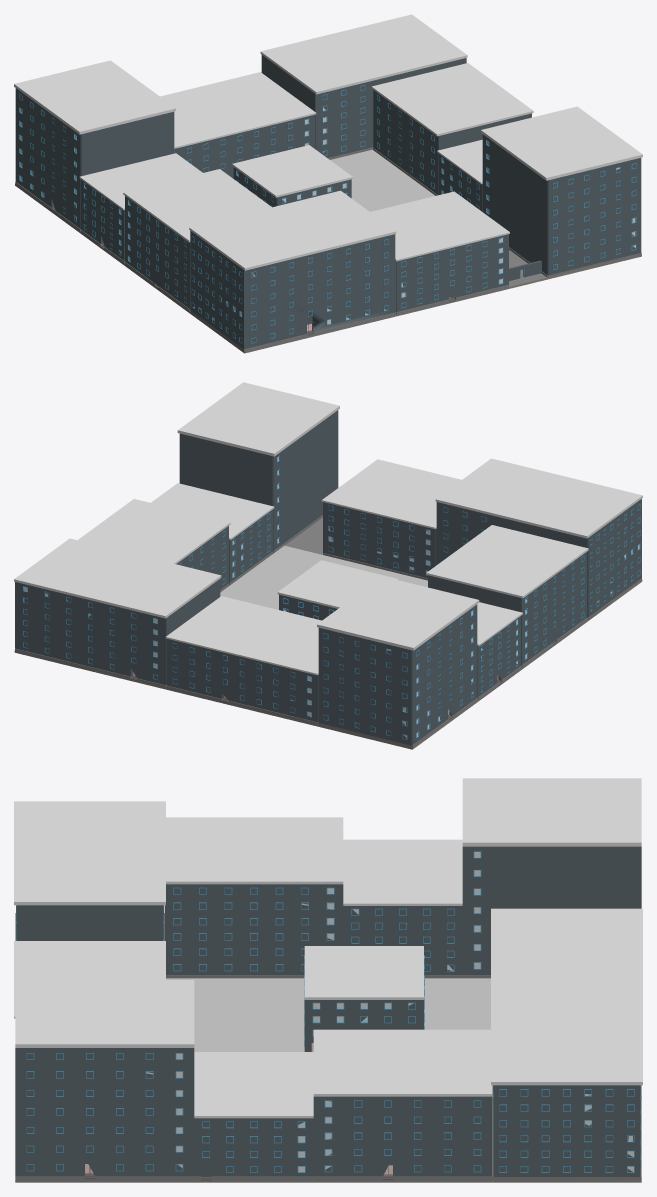
The model's file is Block04.fbx.
3 views of the same model, one above another, from view 1: azimuth 30°, elevation 25°; view 2: azimuth 150°, elevation 25°; view 3: azimuth 270°, elevation 25° (orthographic). The views are drawn at different scales.
Visible parts, largest first — view 1: BC40_F06.003, BC30_F07.003, BC30_F07.005, BC40_F06.004, BR30_F05.001, BR30_F05.008, BR40_F04.005, BR30_F06.007, BR20_F05.007, BR20_F06.006, Courtyard.003, BR20_F04.006 (+2 smaller); view 2: BC30_F07.005, BC40_F06.004, BC30_F07.003, BC40_F06.003, BR40_F04.005, BR30_F06.007, BR30_F05.001, BR30_F05.008, BR20_F04.006, Courtyard.003, BR20_F06.006, BR20_F05.007 (+2 smaller); view 3: BC30_F07.003, BC40_F06.004, BR30_F06.007, BR30_F05.008, BC30_F07.005, BC40_F06.003, BR20_F04.006, BR20_F05.007, Courtyard.003, BR40_F04.005, BR20_F06.006, BR30_F05.001 (+1 smaller).
Boxes of the visible parts, x1,y1,x2,y2 form: BC40_F06.003: (189, 190, 396, 353); BC30_F07.003: (481, 106, 642, 277); BC30_F07.005: (14, 60, 175, 231); BC40_F06.004: (260, 14, 467, 159); BR30_F05.001: (370, 191, 509, 316); BR30_F05.008: (371, 63, 533, 195); BR40_F04.005: (160, 72, 316, 178); BR30_F06.007: (123, 169, 271, 311); BR20_F05.007: (79, 153, 202, 263); BR20_F06.006: (232, 145, 352, 207); Courtyard.003: (330, 149, 435, 211); BR20_F04.006: (437, 139, 482, 211); BC30_F07.005: (317, 576, 479, 749); BC40_F06.004: (14, 538, 221, 687); BC30_F07.003: (177, 382, 339, 553); BC40_F06.003: (435, 458, 642, 620); BR40_F04.005: (165, 596, 321, 725); BR30_F06.007: (426, 525, 588, 668); BR30_F05.001: (321, 459, 461, 580); BR30_F05.008: (78, 499, 230, 592); BR20_F04.006: (151, 483, 274, 585); Courtyard.003: (220, 545, 427, 609); BR20_F06.006: (277, 560, 398, 620); BR20_F05.007: (477, 602, 522, 700); BC30_F07.003: (15, 980, 194, 1182); BC40_F06.004: (491, 981, 642, 1182); BR30_F06.007: (164, 817, 343, 978); BR30_F05.008: (313, 1029, 492, 1182); BC30_F07.005: (462, 778, 641, 978); BC40_F06.003: (14, 801, 165, 940); BR20_F04.006: (194, 1052, 313, 1182); BR20_F05.007: (343, 839, 462, 978); Courtyard.003: (166, 978, 490, 1051); BR40_F04.005: (491, 908, 642, 981); BR20_F06.006: (304, 946, 424, 1051); BR30_F05.001: (14, 941, 165, 1018).
Size of the model in its own units: 10550 by 2570 by 10550.
